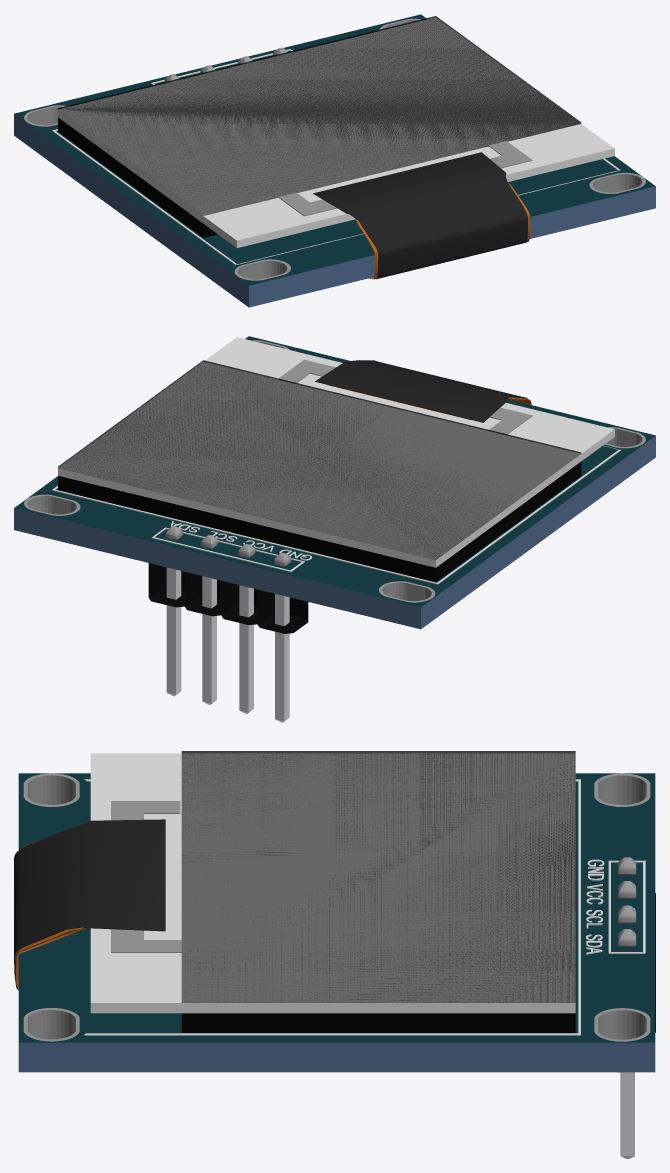
The model's file is OLED DISPLAY.fbx.
The picture shows the model from 3 angles, top to bottom: view 1: azimuth 30°, elevation 25°; view 2: azimuth 150°, elevation 25°; view 3: azimuth 270°, elevation 25°; orthographic projection. The views are drawn at different scales.
Visible parts, largest first — view 1: VIDRO_MEIO-material, LCD-material, plastico_trasp-material, PRETO-material, Material_011-material, Metal_004-material.001, VIDRO_FUNDO-material, Metal_004-material, branco_001-material; view 2: VIDRO_MEIO-material, LCD-material, Material_011-material, PRETO-material, VIDRO_FUNDO-material, metal_parafuso_002-material, plastico_trasp-material, plastico_preto_003-material, Metal_004-material.001, branco_001-material, Metal_004-material; view 3: VIDRO_MEIO-material, LCD-material, PRETO-material, Material_011-material, plastico_trasp-material, VIDRO_FUNDO-material, Metal_004-material.001, Metal_004-material, branco_001-material, metal_parafuso_002-material.
Part boxes in pixels (x1,y1,x2,y2): VIDRO_MEIO-material: (58, 17, 614, 247); LCD-material: (58, 16, 581, 215); plastico_trasp-material: (313, 152, 527, 279); PRETO-material: (14, 14, 655, 285); Material_011-material: (14, 114, 655, 307); Metal_004-material.001: (24, 18, 645, 280); VIDRO_FUNDO-material: (58, 117, 217, 237); Metal_004-material: (164, 47, 532, 216); branco_001-material: (52, 49, 621, 265); VIDRO_MEIO-material: (58, 337, 614, 567); LCD-material: (58, 360, 581, 560); Material_011-material: (14, 436, 655, 629); PRETO-material: (14, 336, 655, 607); VIDRO_FUNDO-material: (58, 462, 581, 582); metal_parafuso_002-material: (166, 531, 289, 722); plastico_trasp-material: (315, 360, 527, 422); plastico_preto_003-material: (148, 563, 308, 633); Metal_004-material.001: (24, 340, 645, 602); branco_001-material: (52, 445, 620, 584); Metal_004-material: (165, 359, 532, 566); VIDRO_MEIO-material: (90, 753, 575, 1013); LCD-material: (181, 751, 575, 1002); PRETO-material: (18, 773, 655, 1042); Material_011-material: (18, 1042, 655, 1072); plastico_trasp-material: (14, 819, 165, 989); VIDRO_FUNDO-material: (181, 1013, 575, 1032); Metal_004-material.001: (23, 773, 650, 1072); Metal_004-material: (111, 801, 636, 952); branco_001-material: (84, 779, 645, 1035); metal_parafuso_002-material: (620, 858, 634, 1158).
Size of the model in its own units: 18.97 by 8.15 by 19.13.
